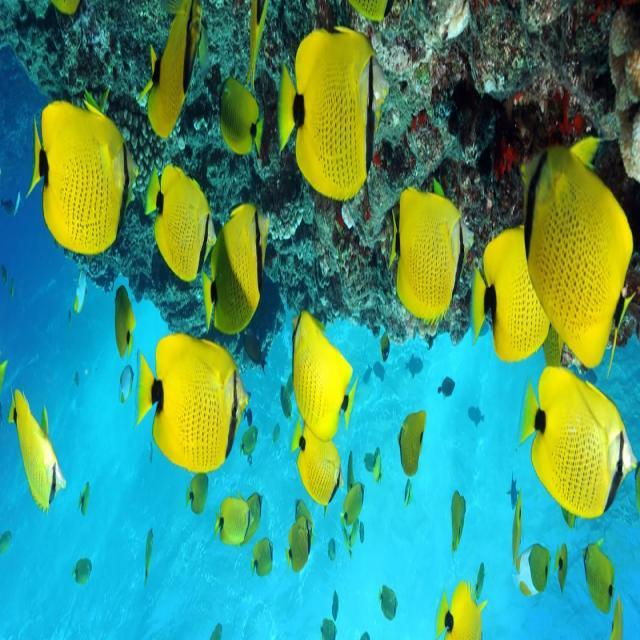ButterflyFish: (527, 126, 634, 352), (268, 36, 387, 202), (514, 368, 636, 520), (20, 98, 131, 246), (147, 324, 253, 472), (382, 168, 464, 334), (132, 0, 212, 146), (12, 366, 71, 538), (470, 227, 544, 361), (282, 310, 354, 437), (141, 178, 217, 296), (203, 203, 266, 320), (213, 52, 267, 170), (426, 565, 494, 640), (574, 540, 630, 630), (290, 422, 340, 515), (382, 404, 430, 496), (440, 466, 470, 568), (280, 502, 318, 581), (249, 526, 283, 612), (238, 476, 276, 546), (511, 542, 558, 598), (108, 284, 140, 366), (339, 472, 372, 536), (180, 463, 210, 531), (138, 502, 160, 590), (548, 524, 566, 616), (216, 496, 246, 548), (70, 466, 99, 518), (506, 485, 522, 572), (66, 545, 96, 583)
